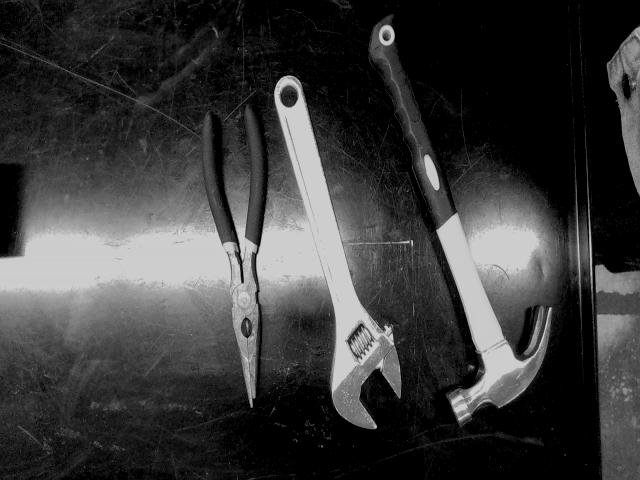Adjustable spanner: (274, 77, 401, 429)
Hammer: (369, 15, 551, 425)
Needle-nose pliers: (202, 107, 266, 406)
